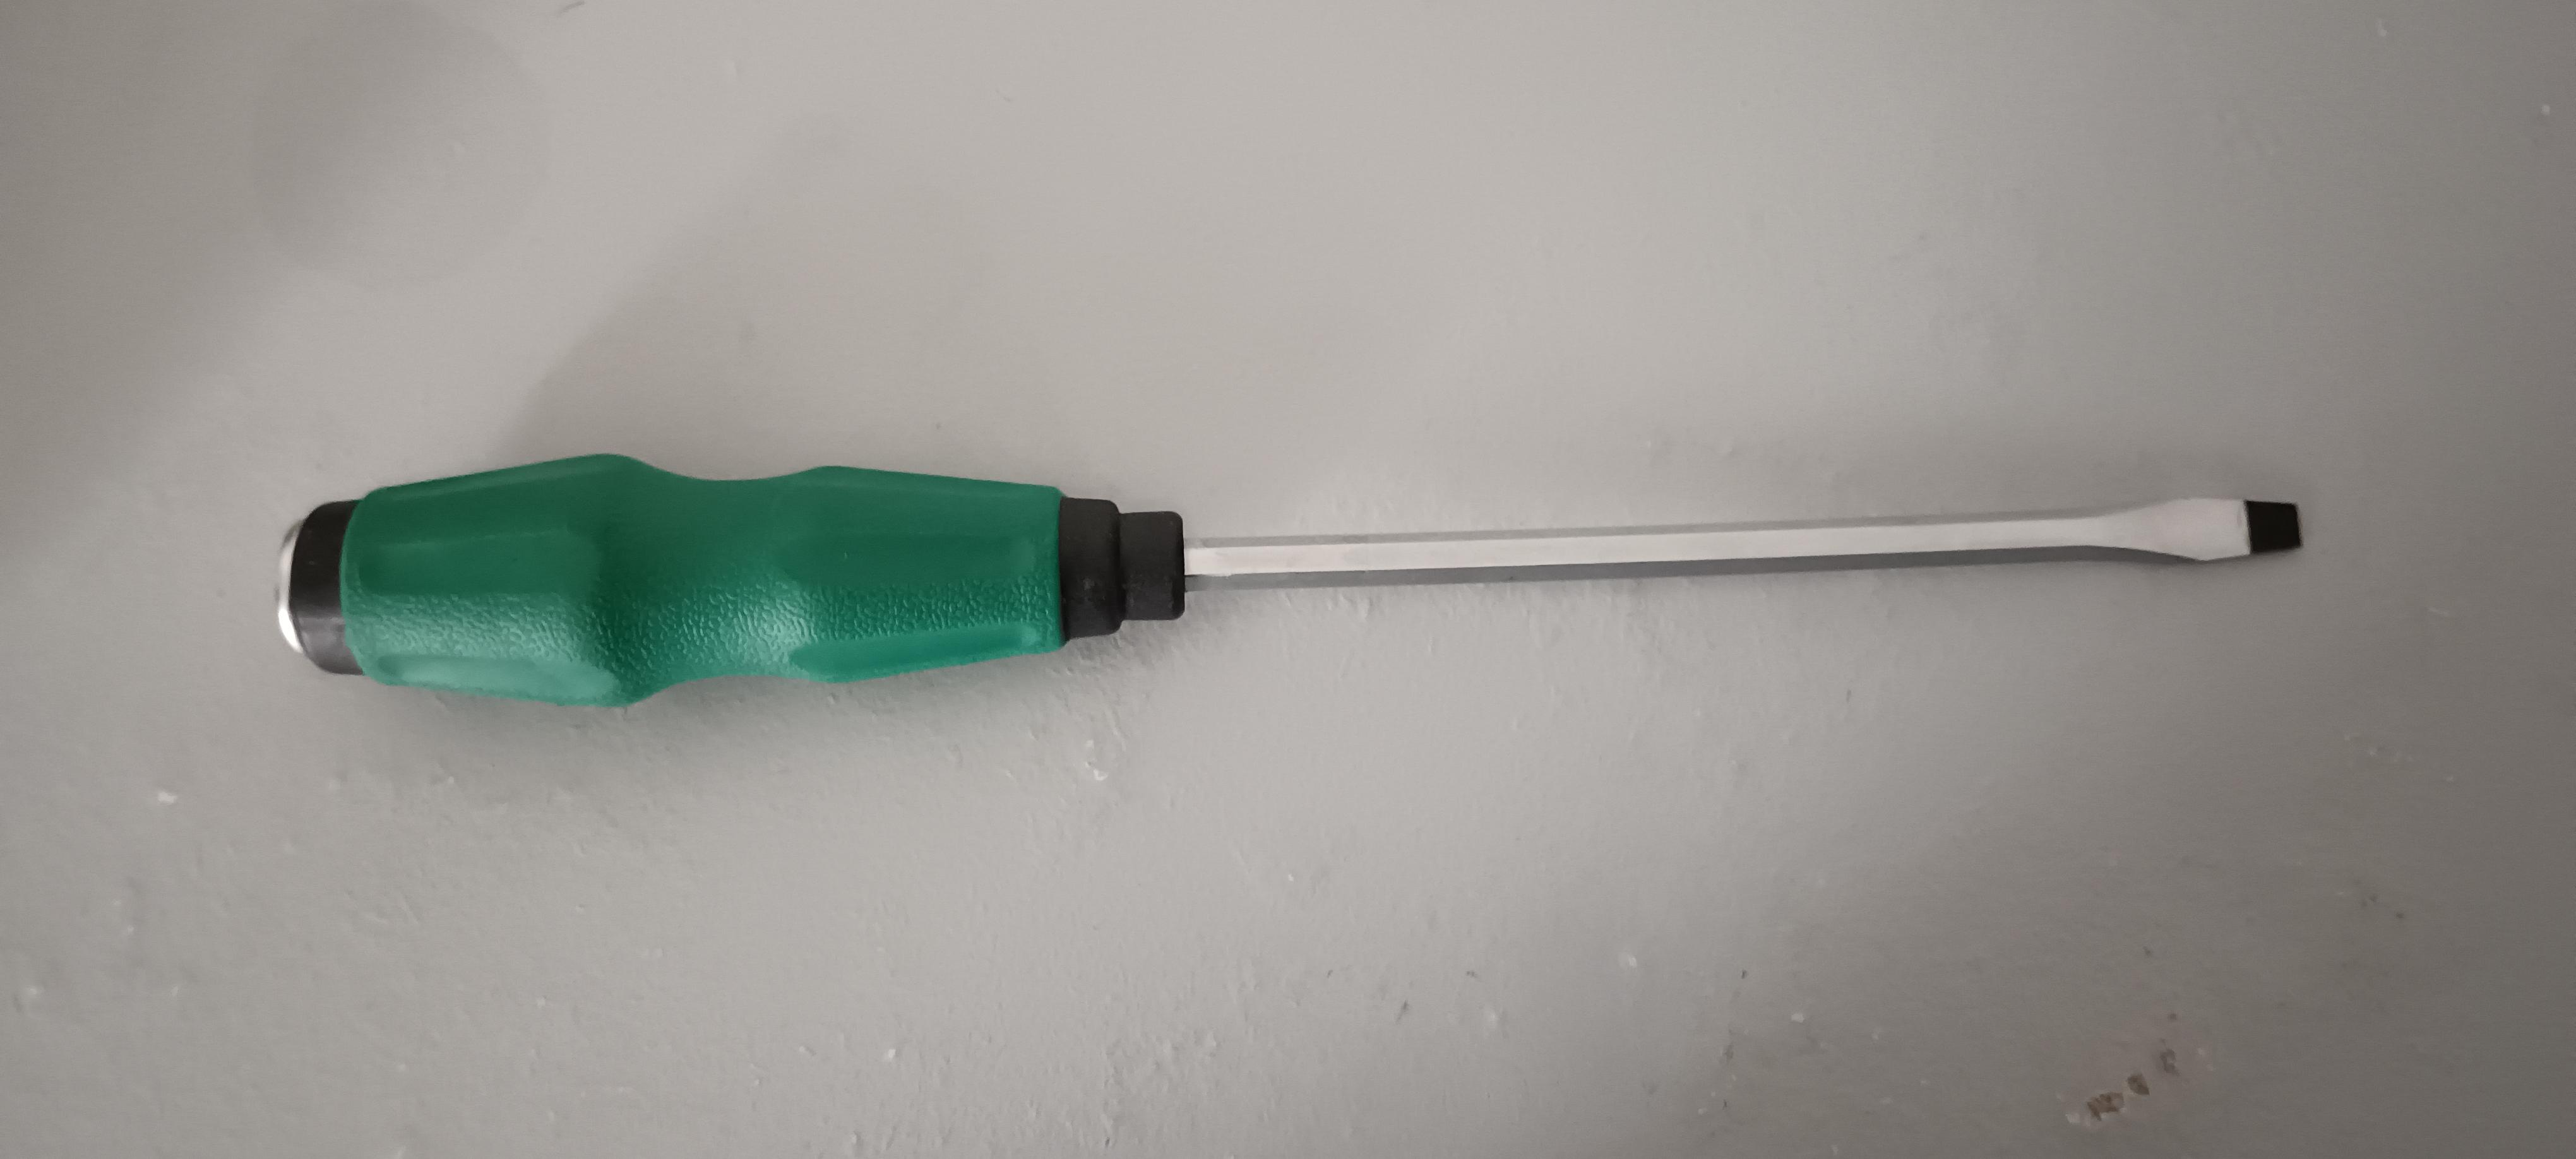Screwdriver: (199, 366, 2374, 827)
